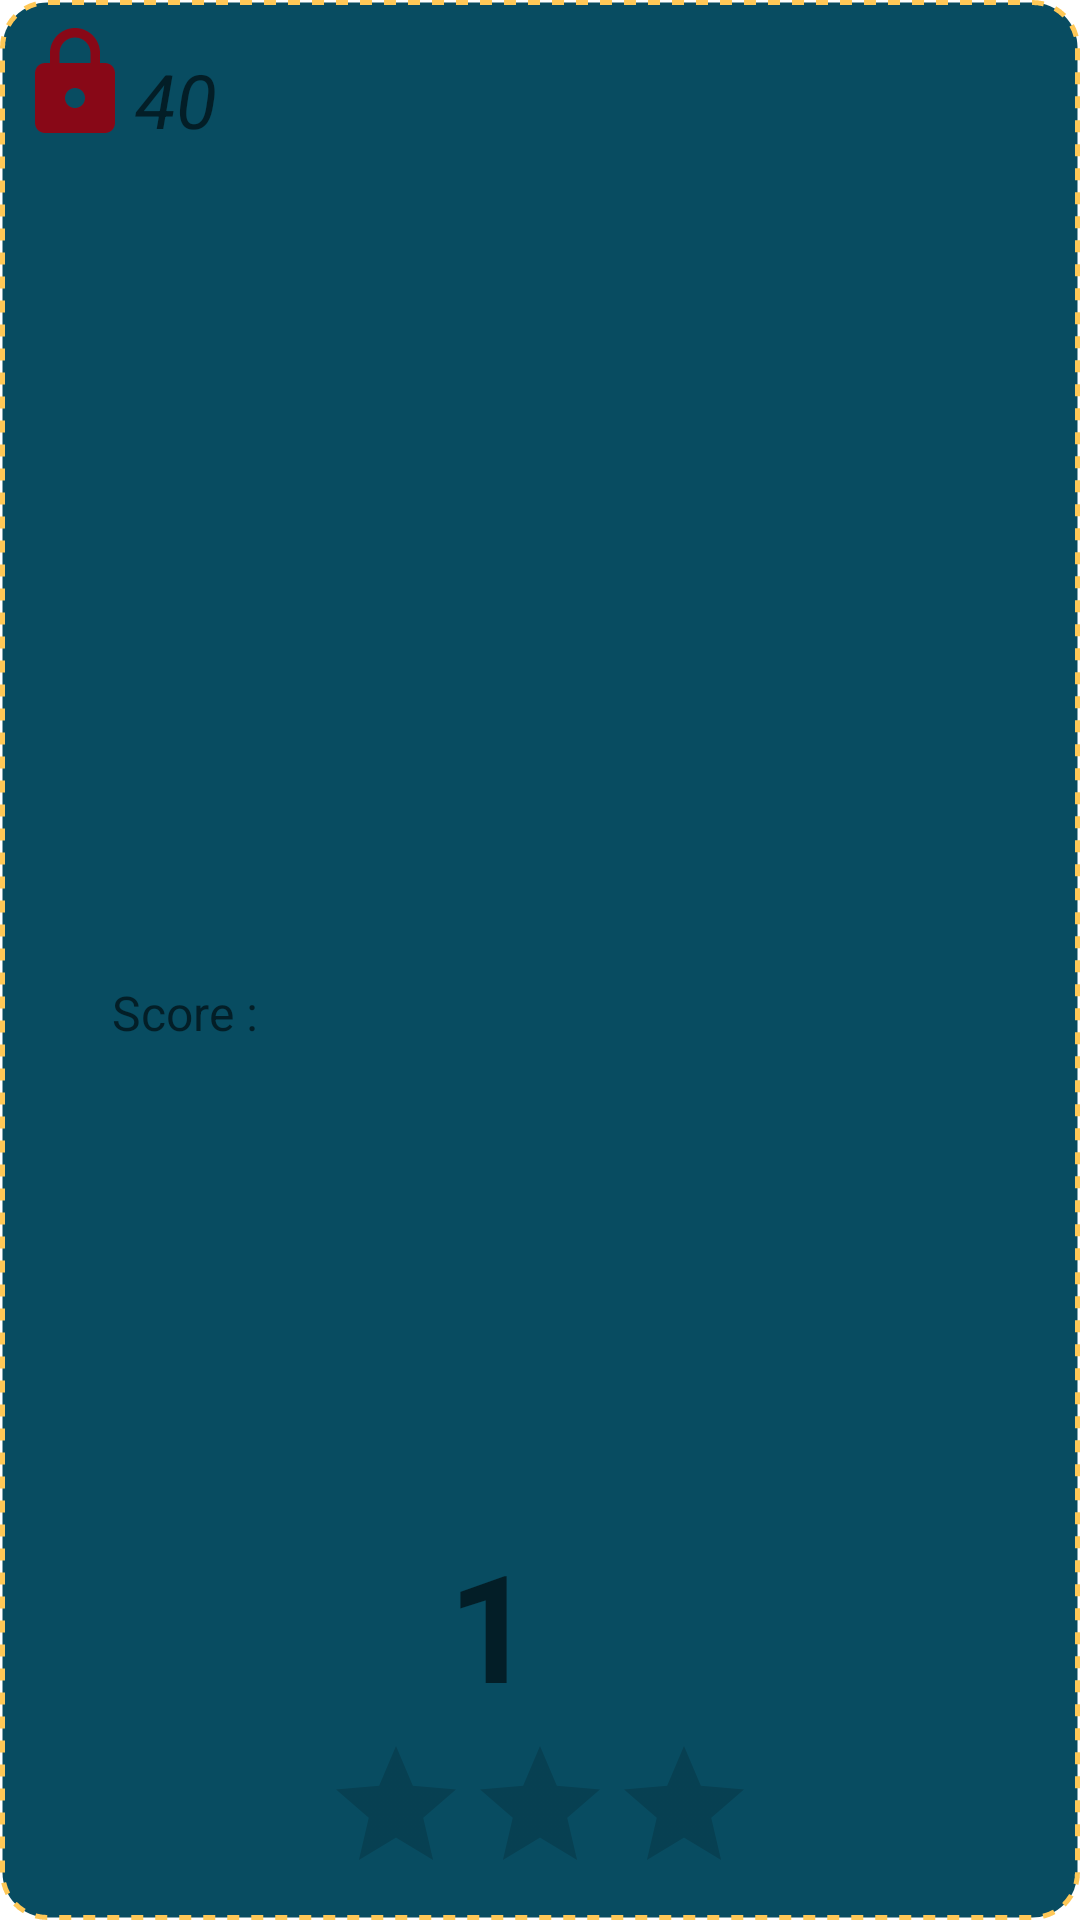

Icon click points for this 1080px x 1920px phone screenshot, format (x=x, y=y):
locked: (x=75, y=80)
